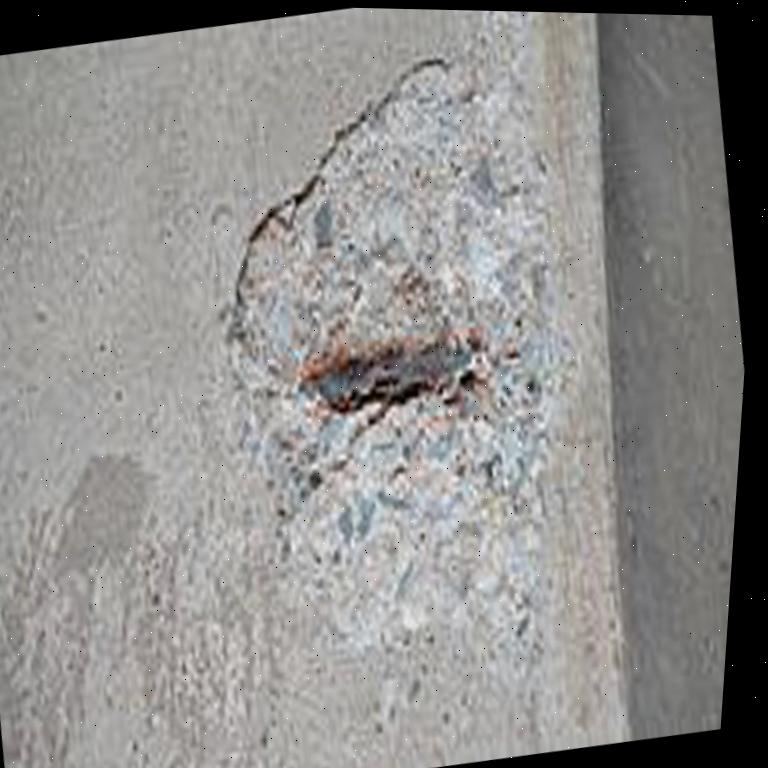spalling: (230, 61, 551, 753), (299, 325, 486, 412)
